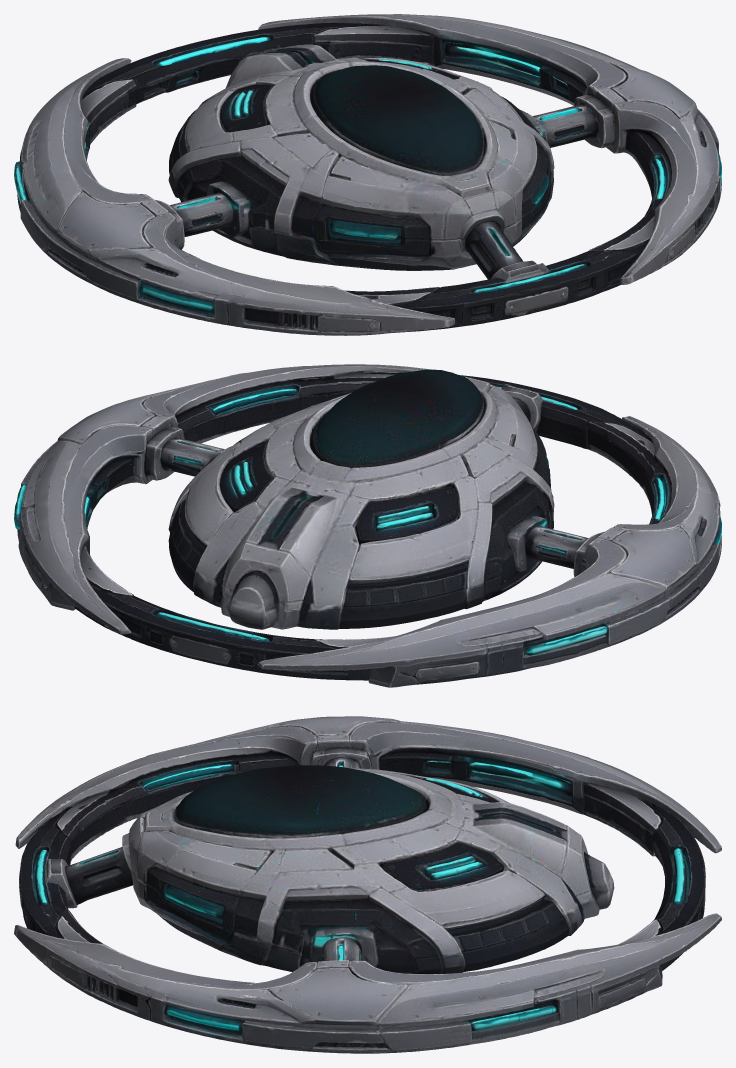
File: lyth.glb
3 views of the same model, one above another, from view 1: azimuth 30°, elevation 25°; view 2: azimuth 150°, elevation 25°; view 3: azimuth 270°, elevation 25° (orthographic).
Size of the model in its own units: 1.9 by 0.3702 by 1.85.
Materials: 1 (1 with a texture image).
